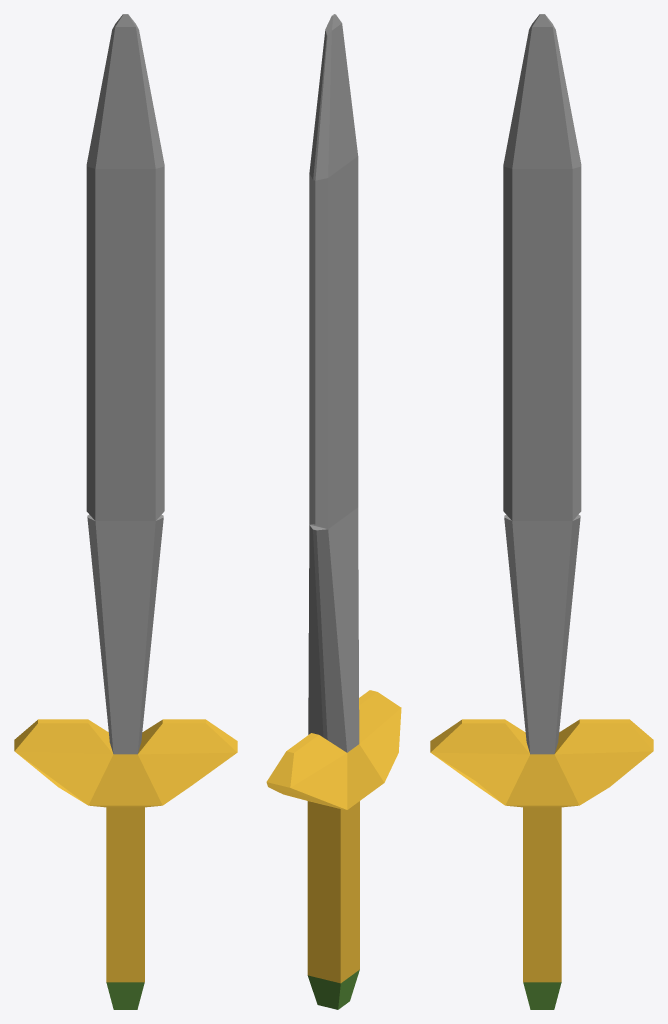
Rendered from dildoSword.fbx.
3 views of the same model, side by side, from view 1: azimuth 90°, elevation 25°; view 2: azimuth 150°, elevation 25°; view 3: azimuth 270°, elevation 25° (orthographic).
Visible parts, largest first — view 1: Cube; view 2: Cube; view 3: Cube.
Boxes of the visible parts, left/top/right/bottom form: Cube: left=14, top=14, right=237, bottom=1009; Cube: left=266, top=14, right=401, bottom=1009; Cube: left=430, top=14, right=653, bottom=1009.
Size of the model in its own units: 2 by 29.37 by 5.99.
